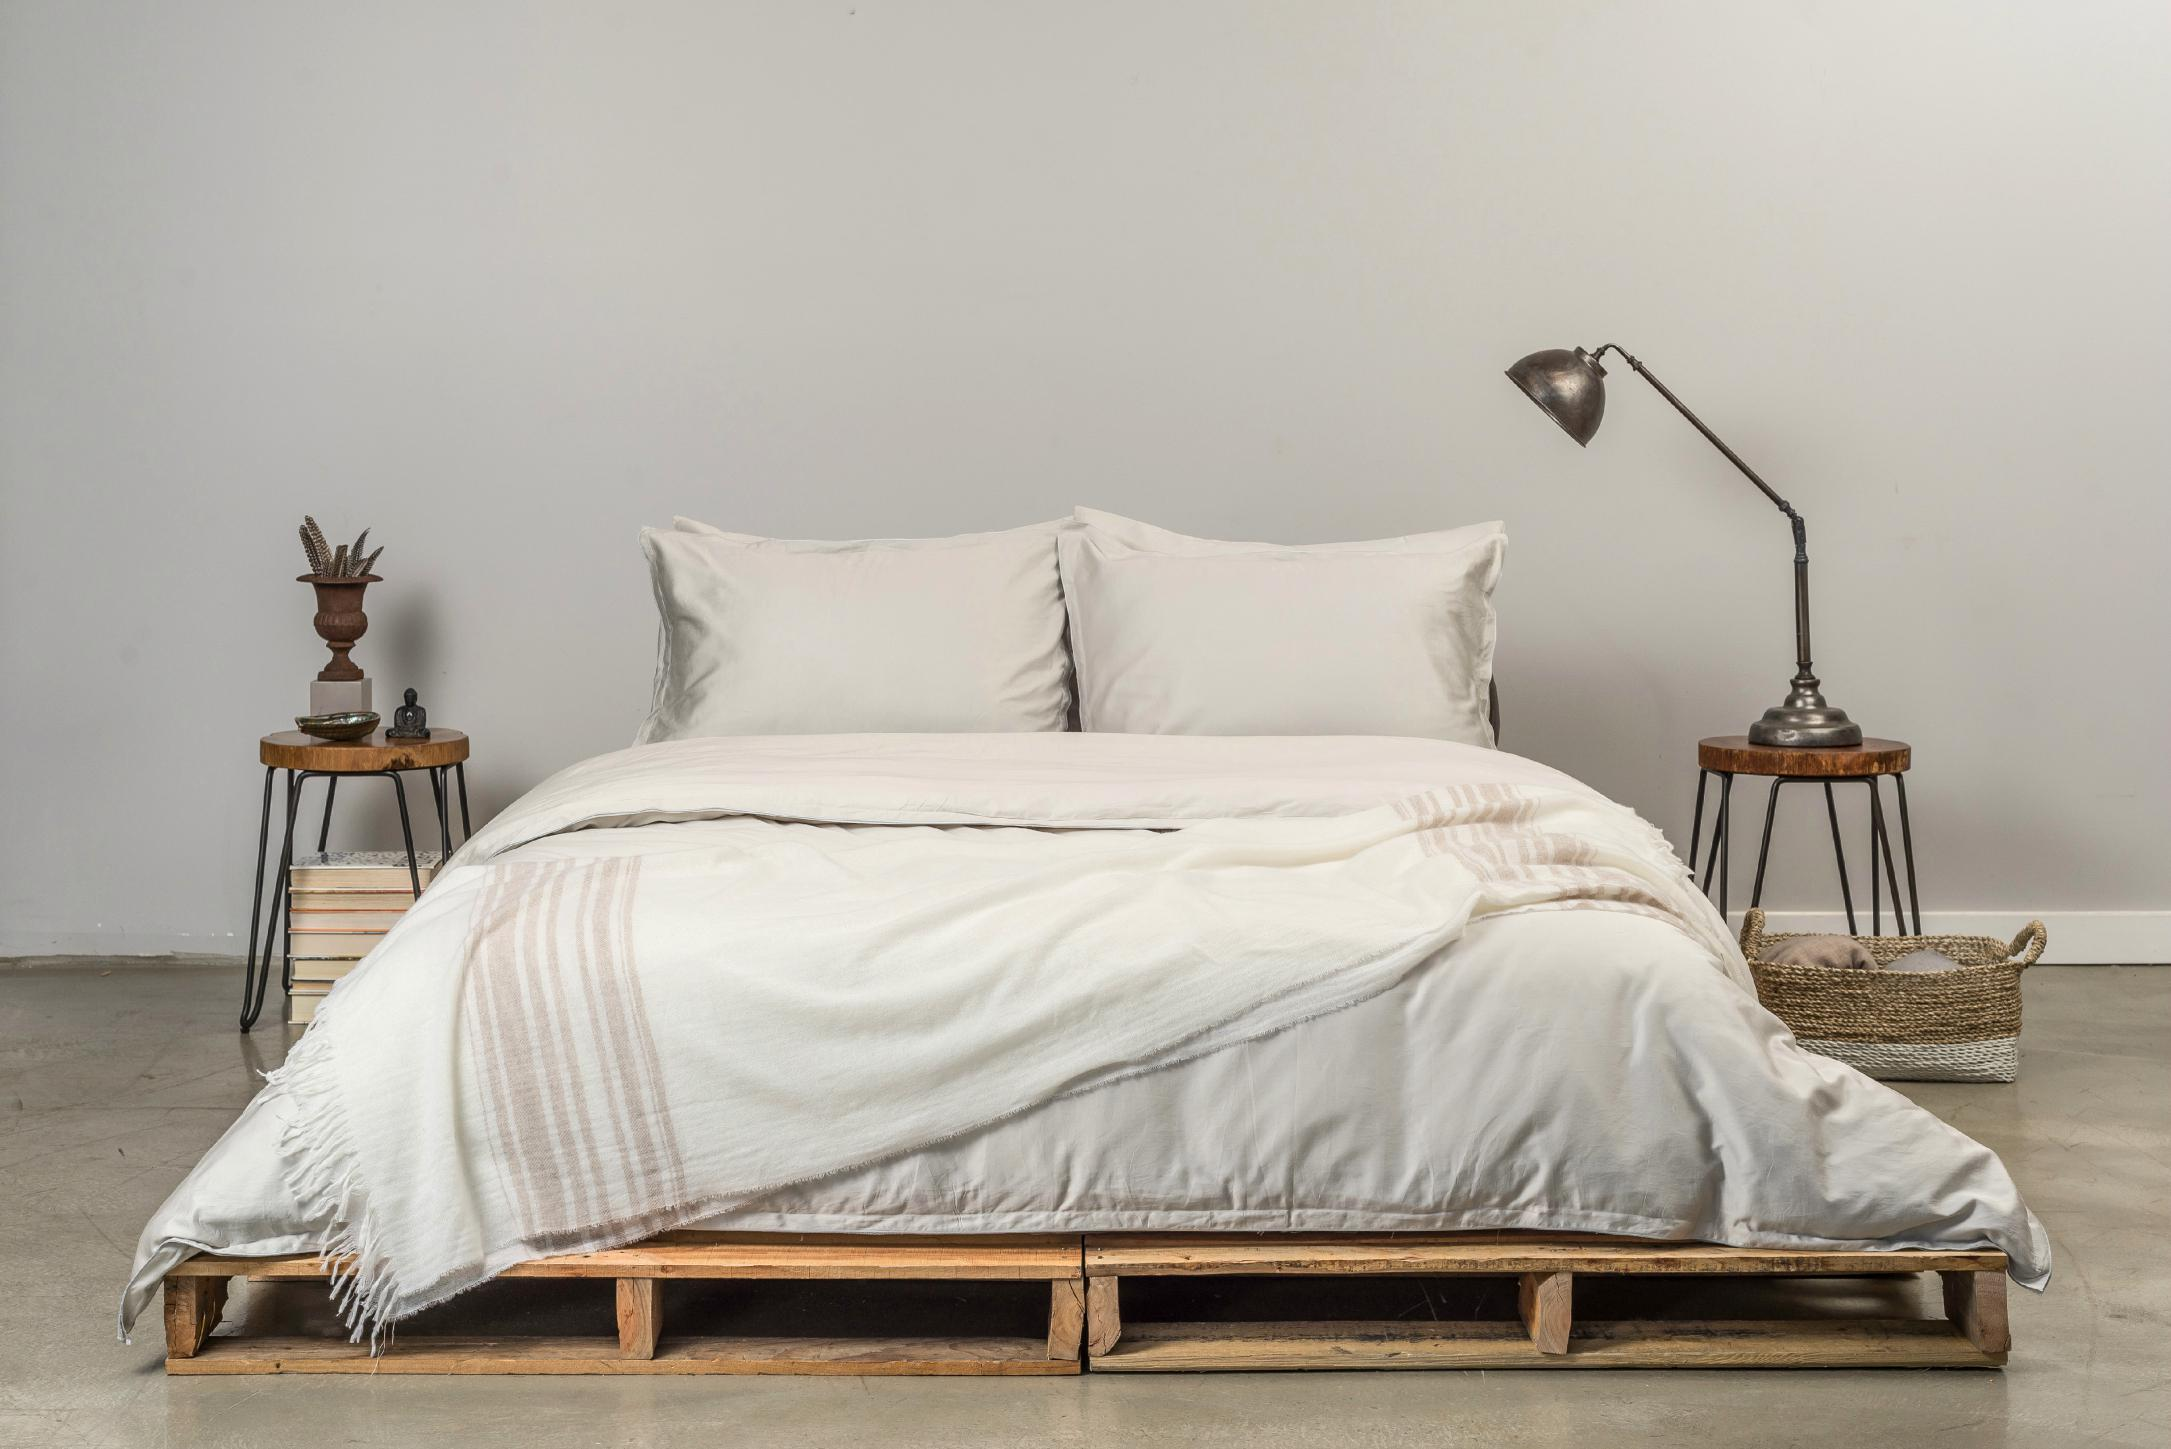bed: (314, 430, 1757, 1234)
